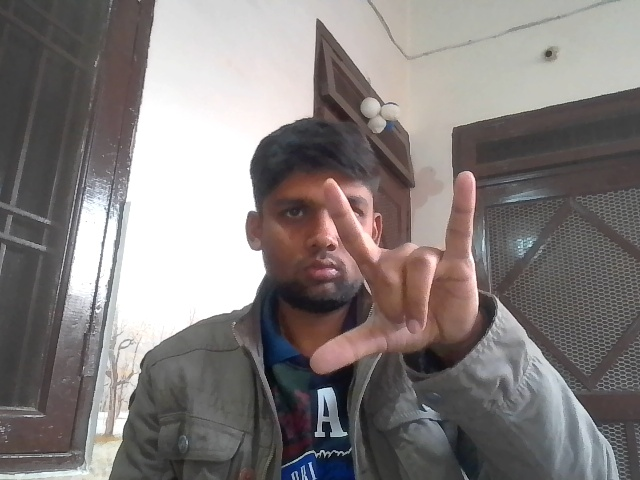ILoveYou: (284, 159, 485, 394)
